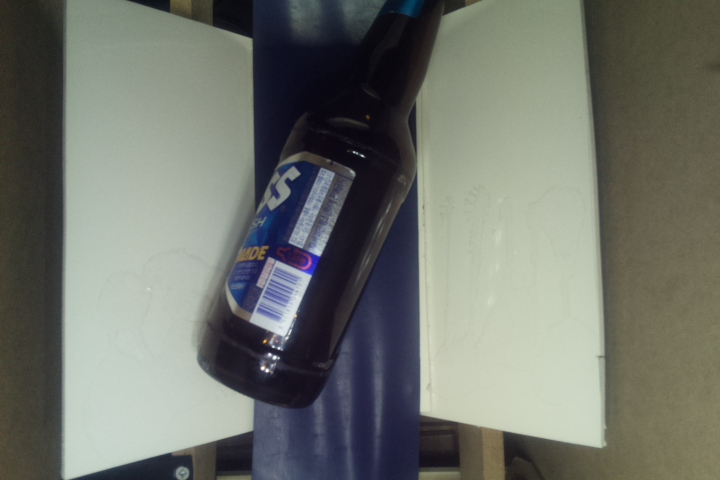makju: (192, 1, 449, 414)
